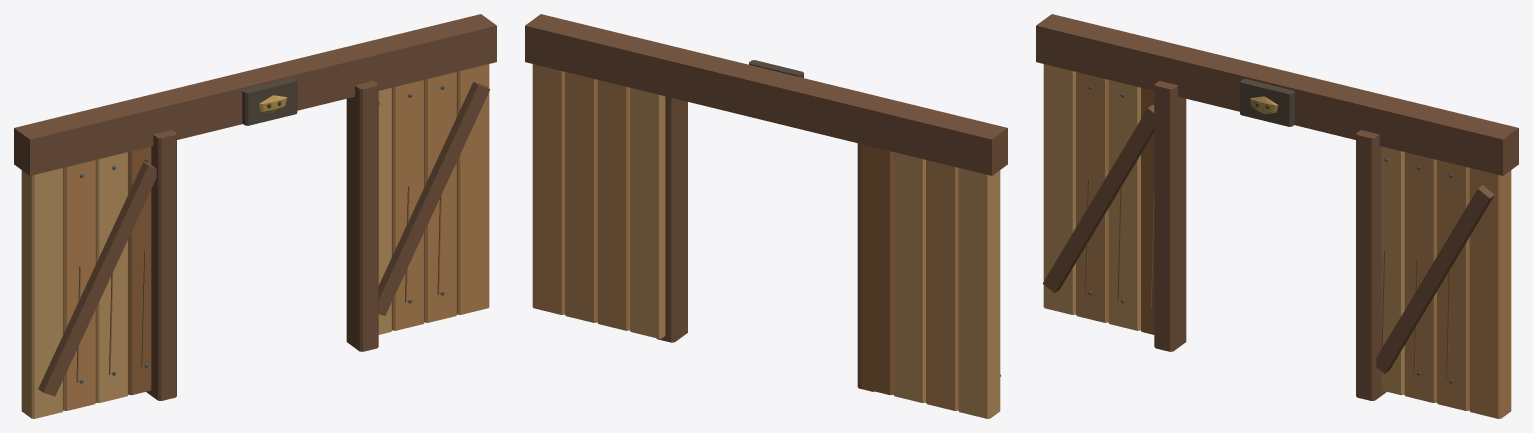
The model's file is wood_front.glb.
3 renders of one model, left to right at view 1: azimuth 30°, elevation 25°; view 2: azimuth 150°, elevation 25°; view 3: azimuth 330°, elevation 25°, orthographic.
Visible parts, largest first — view 1: wood_front; view 2: wood_front; view 3: wood_front.
Part boxes in pixels (x1,y1,x2,y2): wood_front: (14,14,496,418); wood_front: (525,14,1007,418); wood_front: (1036,14,1518,418).
Bounding box in the file's own units: 0.644 × 0.379 × 0.0614.
